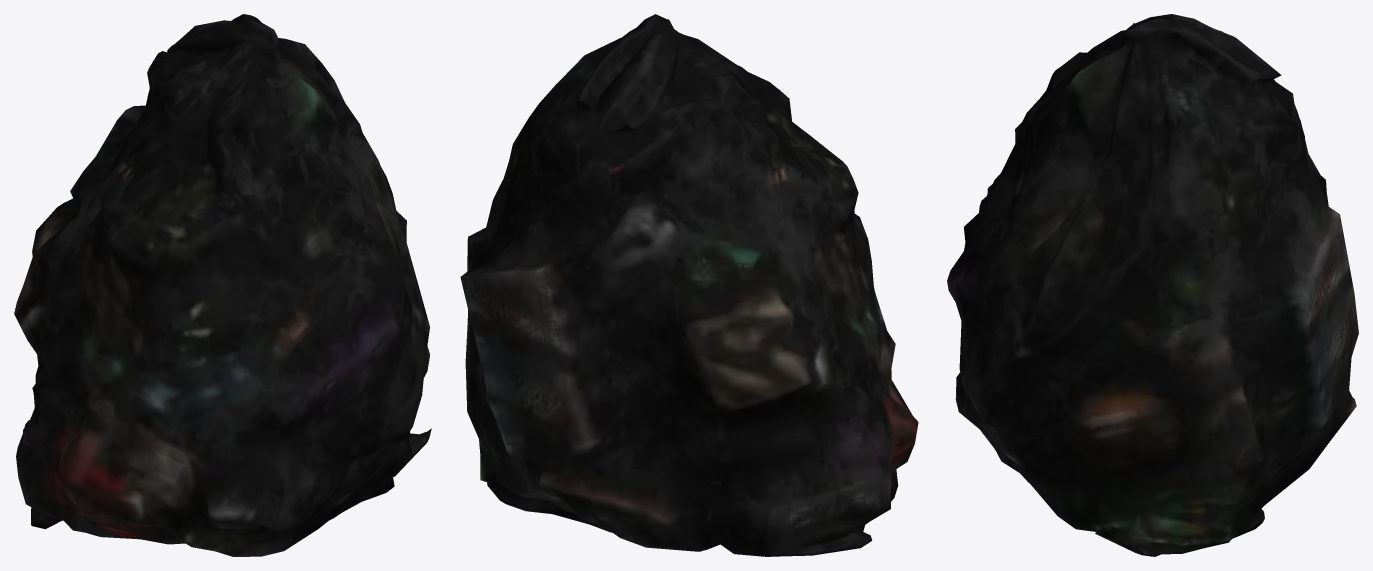
Rendered from trashbag.glb.
The picture shows the model from 3 angles, left to right: view 1: azimuth 30°, elevation 25°; view 2: azimuth 150°, elevation 25°; view 3: azimuth 270°, elevation 25°; orthographic projection. The views are drawn at different scales.
Parts seen in each view (by area): view 1: trashbag; view 2: trashbag; view 3: trashbag.
Part boxes in pixels (x1,y1,x2,y2): trashbag: [14, 14, 431, 556]; trashbag: [460, 14, 918, 556]; trashbag: [947, 14, 1358, 556].
Size of the model in its own units: 0.5281 by 0.575 by 0.4629.
Materials: 1 (1 with a texture image).
